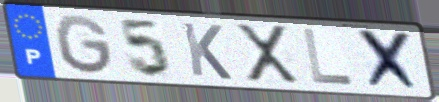5: (115, 17, 172, 79)
G: (53, 13, 117, 77)
K: (179, 20, 235, 82)
L: (300, 27, 358, 87)
X: (355, 27, 425, 94), (232, 22, 303, 85)
